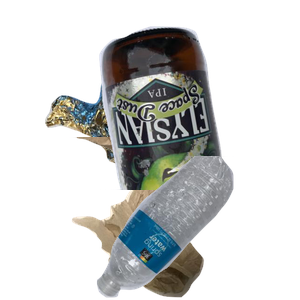glass: (97, 24, 300, 204)
metal: (42, 72, 239, 229)
plastic: (94, 156, 300, 300)
trash: (66, 137, 263, 300)
